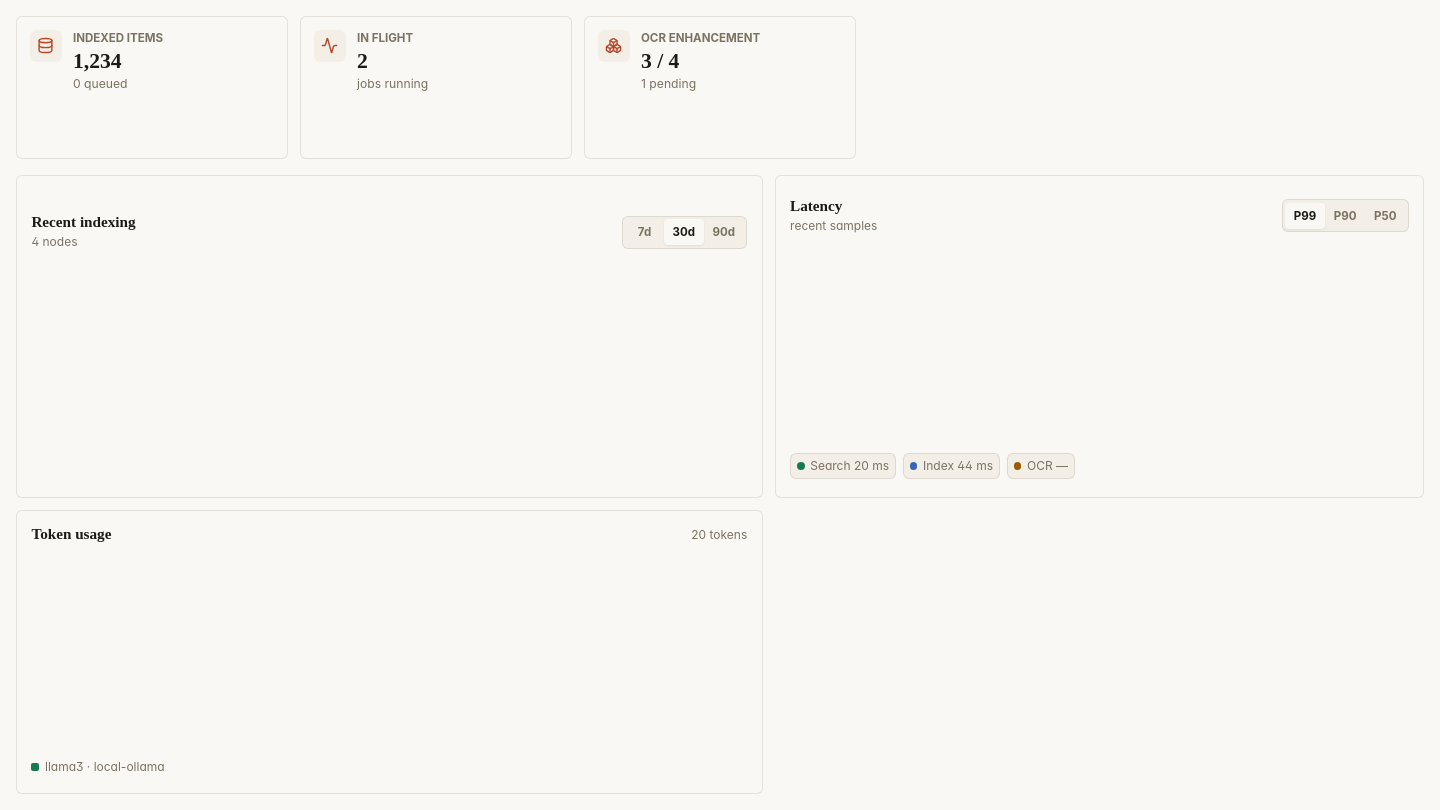
Test: HomeDashboard › switches the latency chart percentile
What coordinates should you click on to do the following:
click the button "P50"
I would click on:
 (1385, 216)
Its box is [1365,203,1405,229].
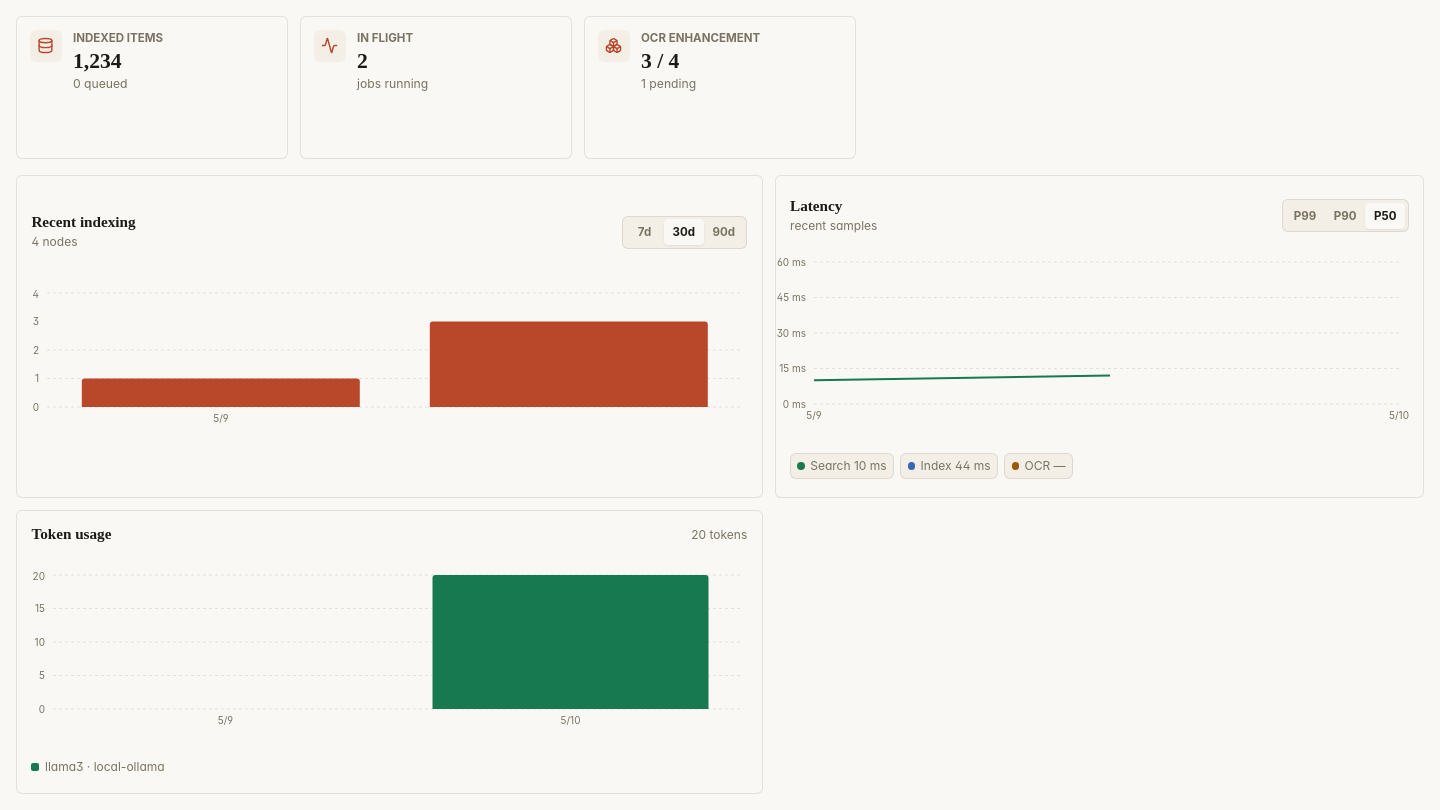
Now the picture named "P50 latency line chart" is shown, box [790,254,1409,434]
